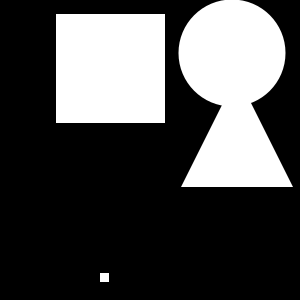circle: (56, 14, 165, 123), (100, 273, 109, 282)
rectangle: (178, 0, 286, 106)
triangle: (181, 75, 293, 187)
